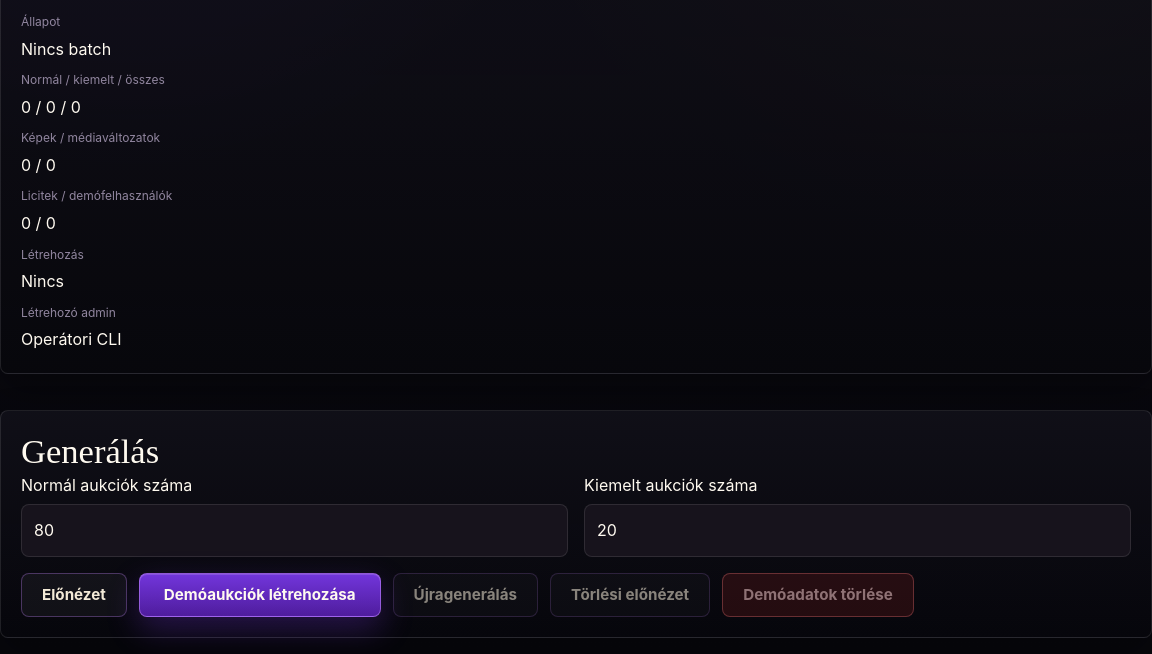
Test case: Admin demóaukciók › 80 és 20 alapértékkel előnézetet készít
(page scrolled)
Expected: the number field labelled "Normál aukciók száma" holds "80", [21,504,568,557]
Expected: the number field labelled "Kiemelt aukciók száma" holds "20", [584,504,1131,557]
Click the button "Előnézet" at {"x": 74, "y": 595}, box [21,573,127,617]
(page scrolled)
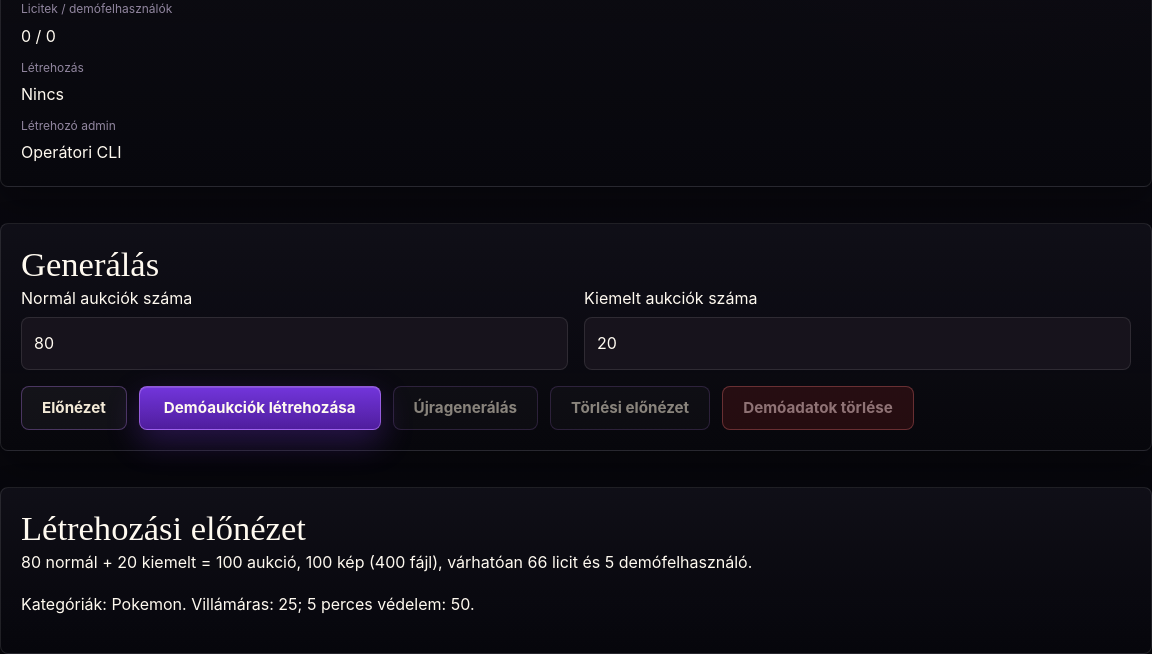
Expected: the text "80 normál + 20 kiemelt = 100 aukció" is shown, [21,552,752,572]
